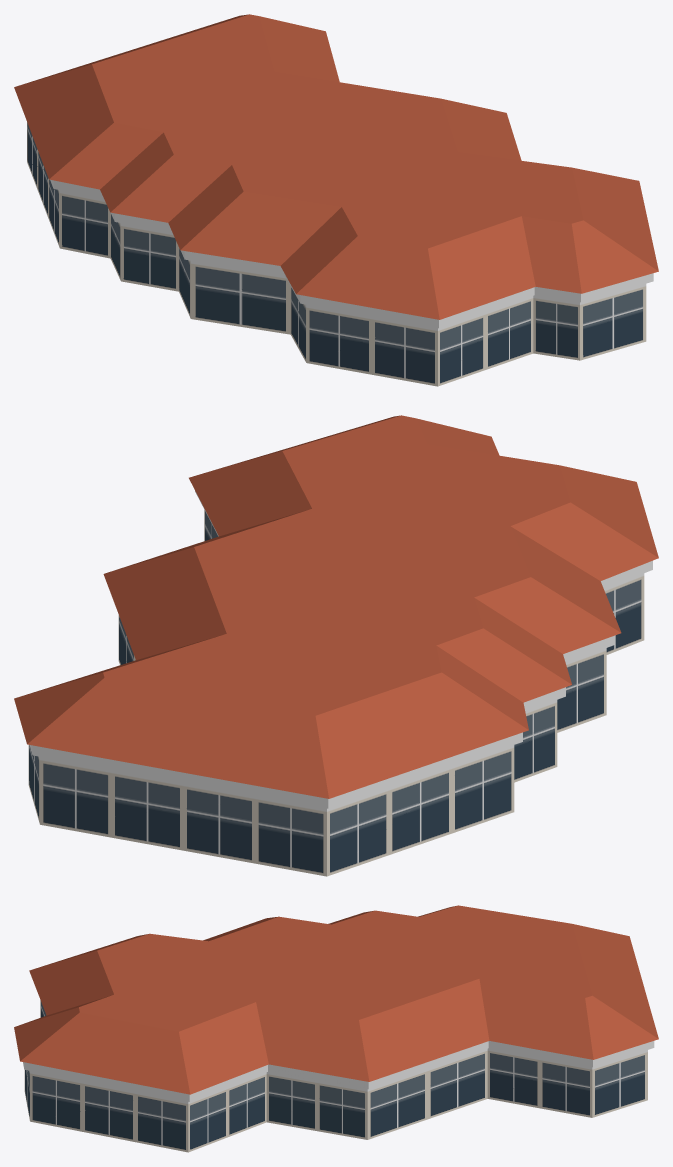
File: matthews.glb
3 renders of one model, top to bottom at view 1: azimuth 30°, elevation 25°; view 2: azimuth 150°, elevation 25°; view 3: azimuth 270°, elevation 25°, orthographic. The views are drawn at different scales.
Visible parts, largest first — view 1: matthews_lod0; view 2: matthews_lod0; view 3: matthews_lod0.
Boxes of the visible parts, x1,y1,x2,y2 form: matthews_lod0: (14, 14, 658, 386); matthews_lod0: (14, 415, 658, 876); matthews_lod0: (14, 905, 658, 1152).
Size of what is drawn, in the model's own units: 25.49 by 6 by 37.06.
3 materials, 1 textured.
